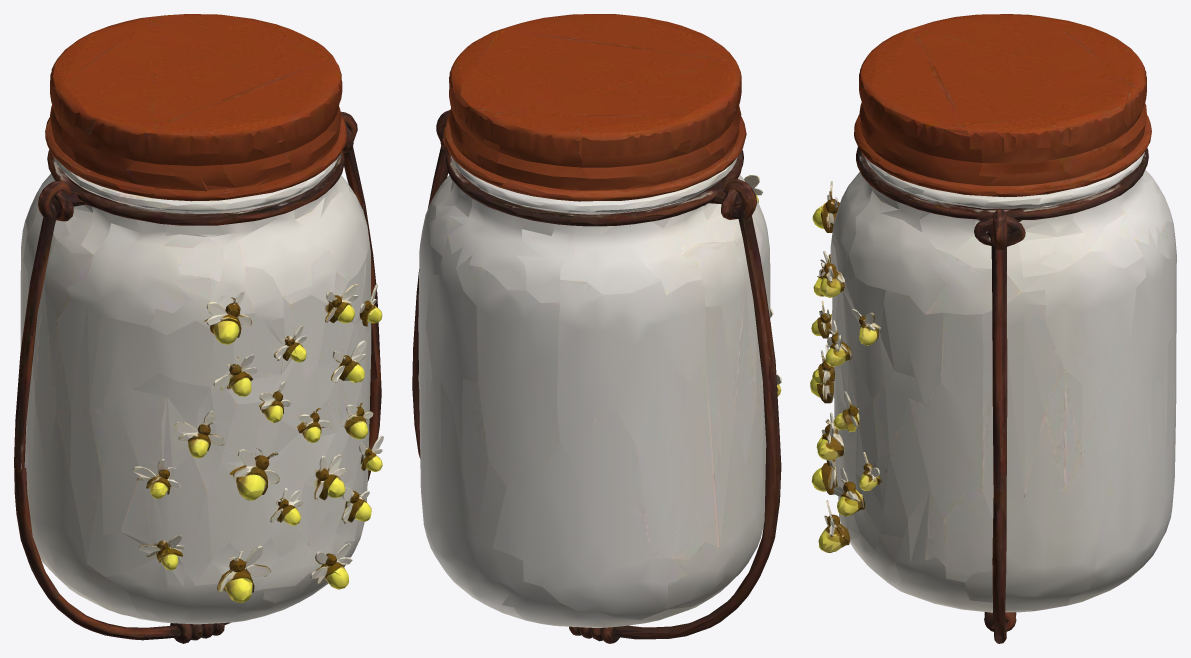
Rendered from firefly_lantern.glb.
3 renders of one model, left to right at view 1: azimuth 30°, elevation 25°; view 2: azimuth 150°, elevation 25°; view 3: azimuth 270°, elevation 25°, orthographic. The views are drawn at different scales.
Parts seen in each view (by area): view 1: Mesh_0; view 2: Mesh_0; view 3: Mesh_0.
Boxes of the visible parts, x1,y1,x2,y2 form: Mesh_0: (14, 14, 383, 643); Mesh_0: (412, 14, 781, 643); Mesh_0: (810, 14, 1176, 643).
Size of the model in its own units: 0.6777 by 1 by 0.5999.
Materials: 1 (1 with a texture image).
